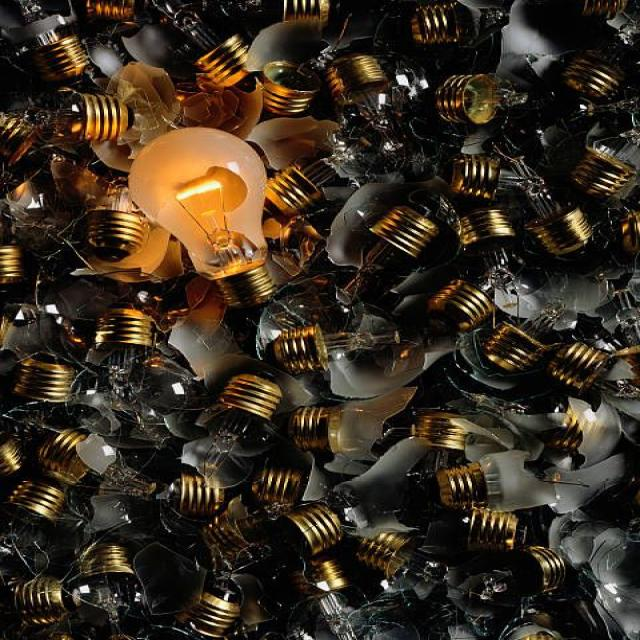electronic: (0, 0, 639, 639), (127, 124, 270, 280)
